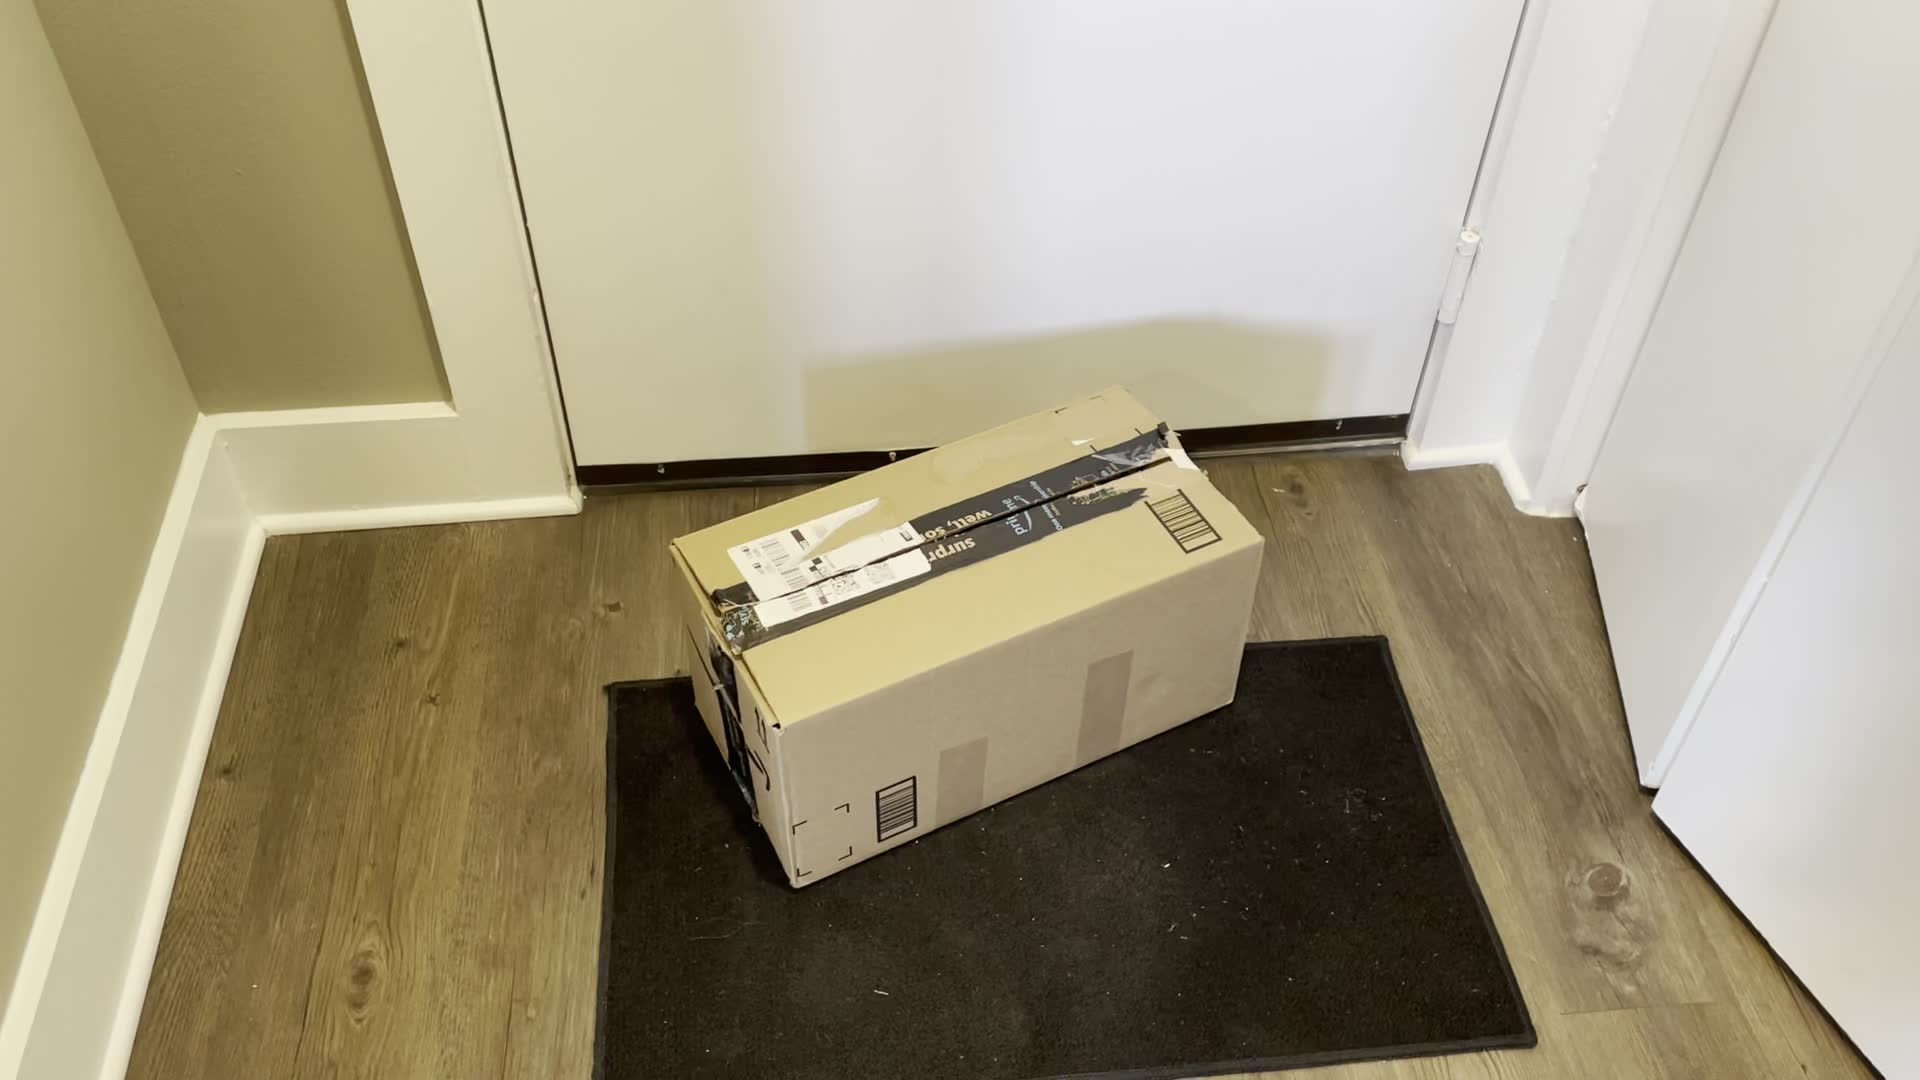box: (618, 392, 1305, 881)
